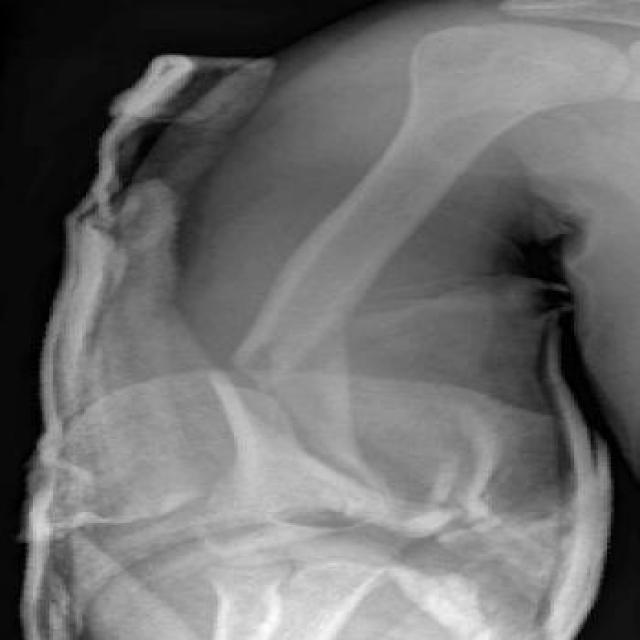fracture: (189, 348, 374, 489)
